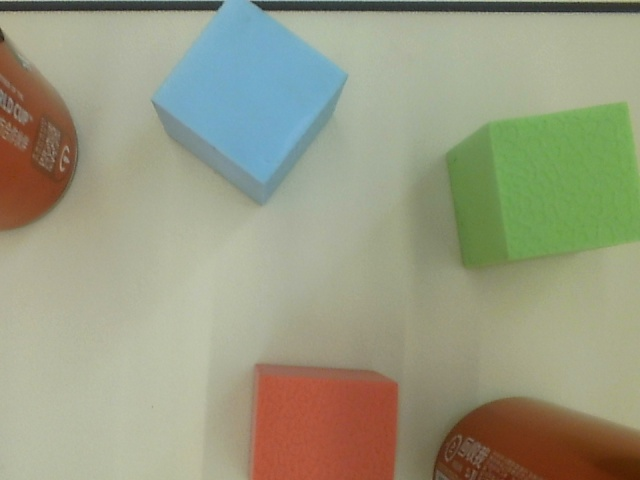bluecube: (142, 1, 354, 213)
cola: (429, 392, 640, 480), (1, 23, 84, 244)
greencube: (437, 99, 640, 283)
redcube: (241, 357, 414, 480)
